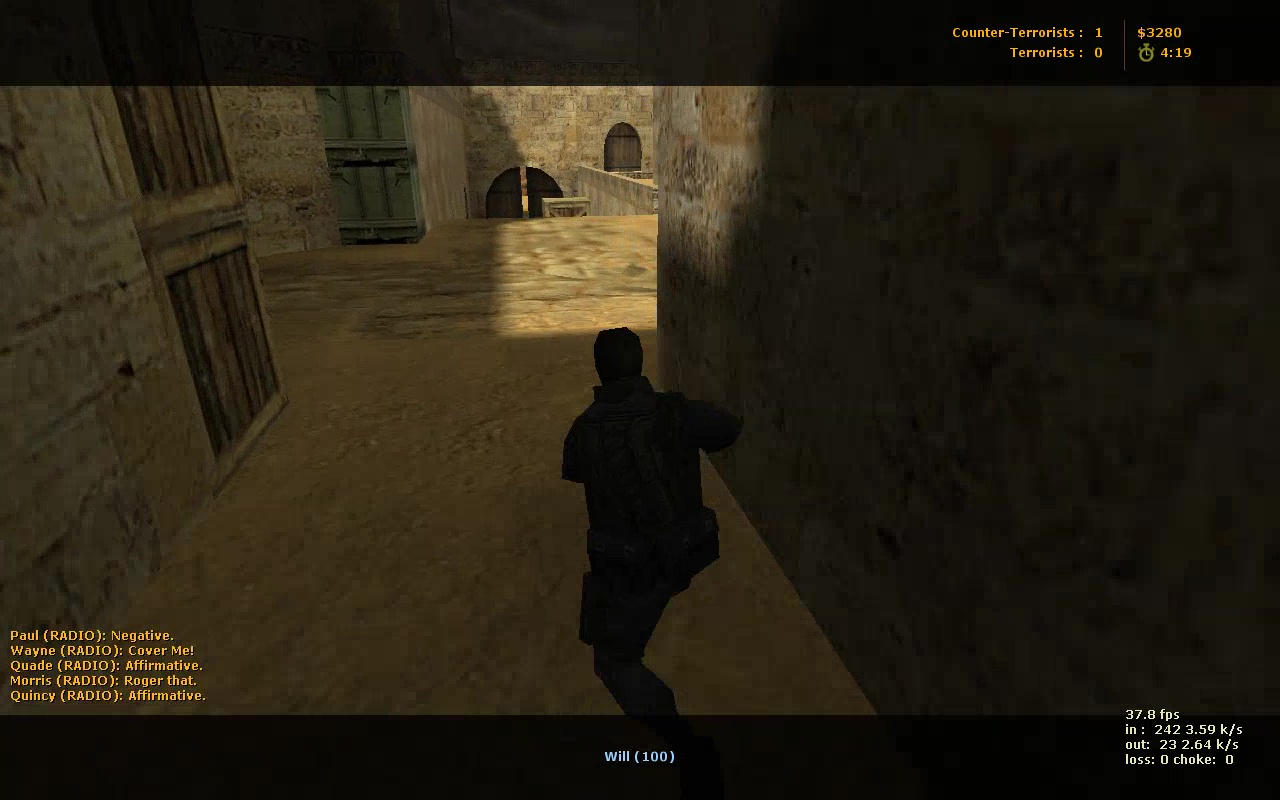ct: (555, 326, 743, 709)
